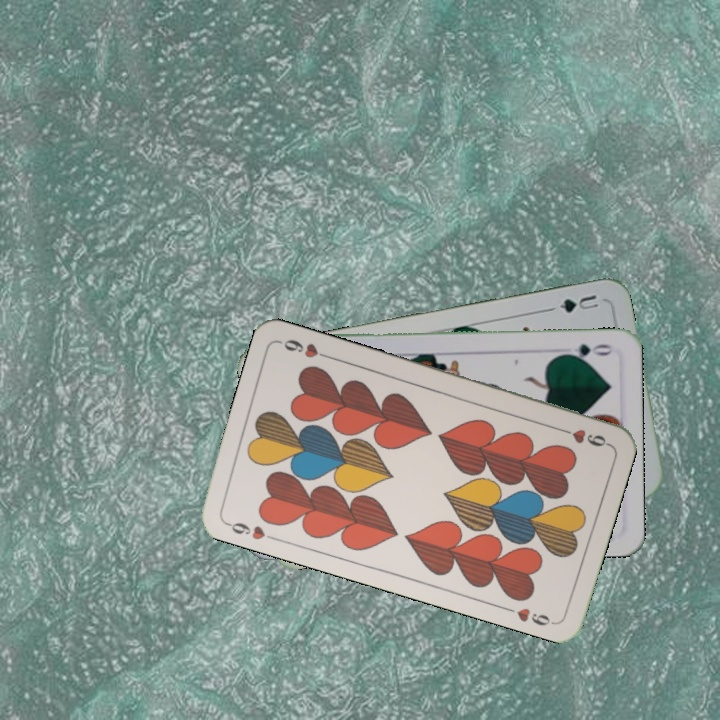GO: (557, 339, 616, 363)
GU: (546, 290, 603, 316)
H9: (553, 423, 611, 449), (221, 518, 268, 543)
